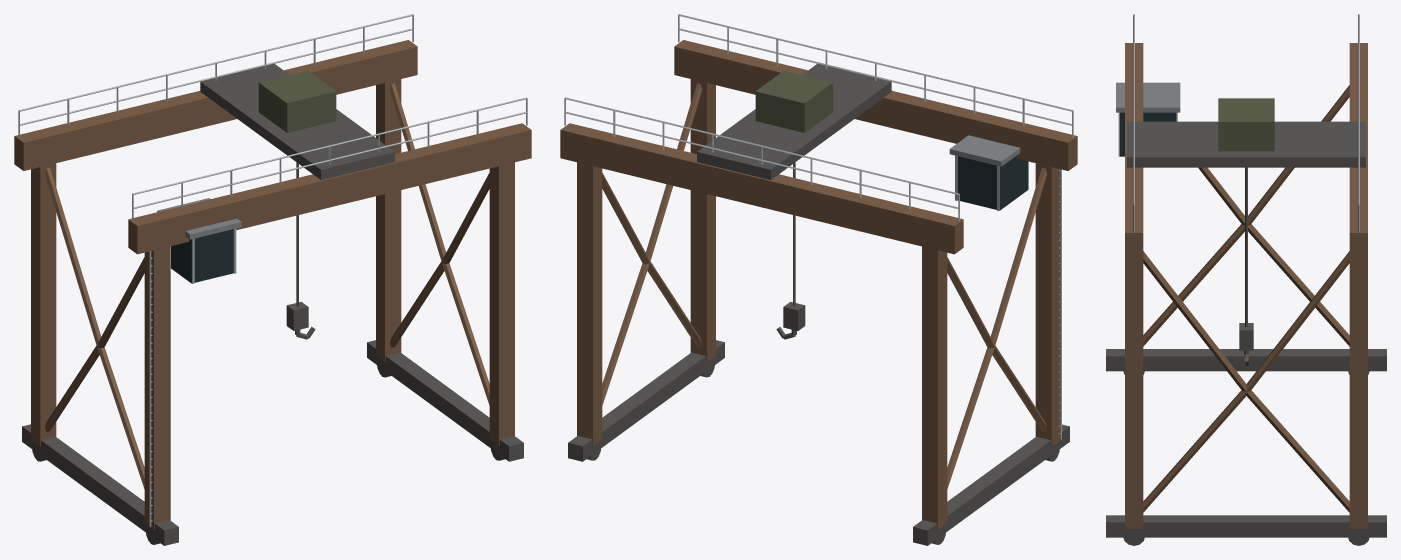
Rendered from Scenery_GantryCrane.fbx.
3 views of the same model, side by side, from view 1: azimuth 30°, elevation 25°; view 2: azimuth 150°, elevation 25°; view 3: azimuth 270°, elevation 25° (orthographic).
Parts seen in each view (by area): view 1: Scenery_GantryCrane_LOD0; view 2: Scenery_GantryCrane_LOD0; view 3: Scenery_GantryCrane_LOD0.
Boxes of the visible parts, left/top/right/bottom form: Scenery_GantryCrane_LOD0: left=14, top=14, right=531, bottom=545; Scenery_GantryCrane_LOD0: left=560, top=14, right=1077, bottom=545; Scenery_GantryCrane_LOD0: left=1106, top=14, right=1386, bottom=545.
Size of what is drawn, in the model's own units: 16.07 by 14.2 by 10.
